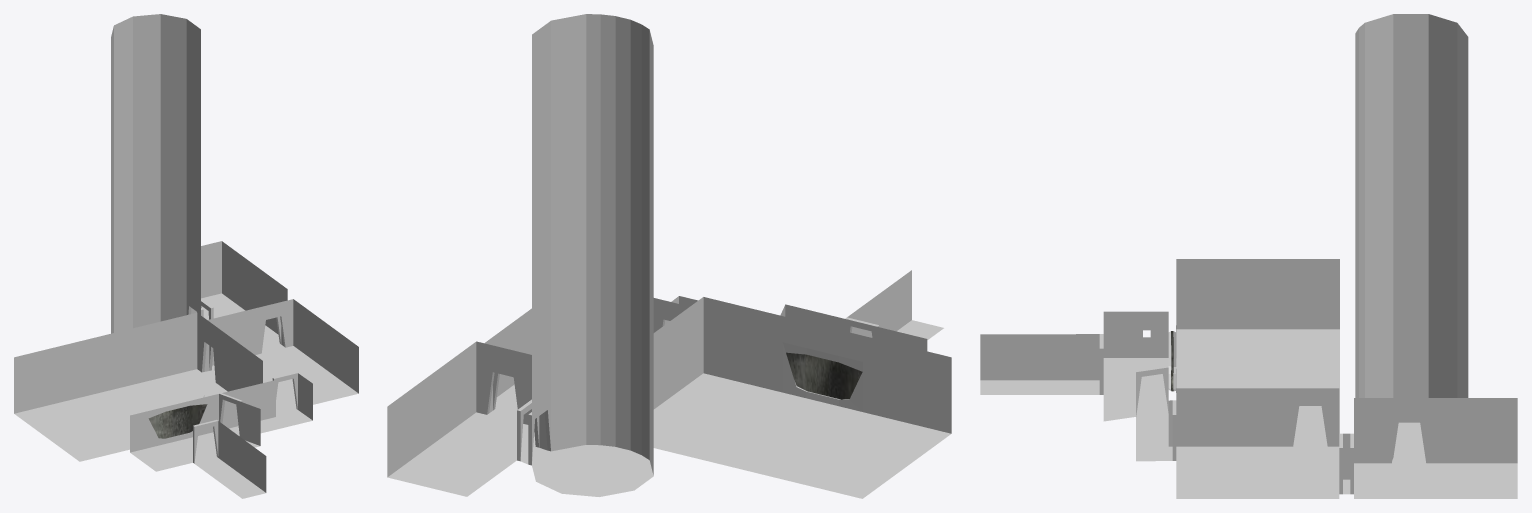
3 views of the same model, side by side, from view 1: azimuth 30°, elevation 25°; view 2: azimuth 150°, elevation 25°; view 3: azimuth 270°, elevation 25° (orthographic). The views are drawn at different scales.
Visible parts, largest first — view 1: Unnamed_room; view 2: Unnamed_room; view 3: Unnamed_room.
Boxes of the visible parts, left/top/right/bottom form: Unnamed_room: left=14, top=14, right=358, bottom=498; Unnamed_room: left=387, top=14, right=951, bottom=498; Unnamed_room: left=980, top=14, right=1517, bottom=498.
Bounding box in the file's own units: 107 × 116 × 143.
Materials: 2 (1 with a texture image).
